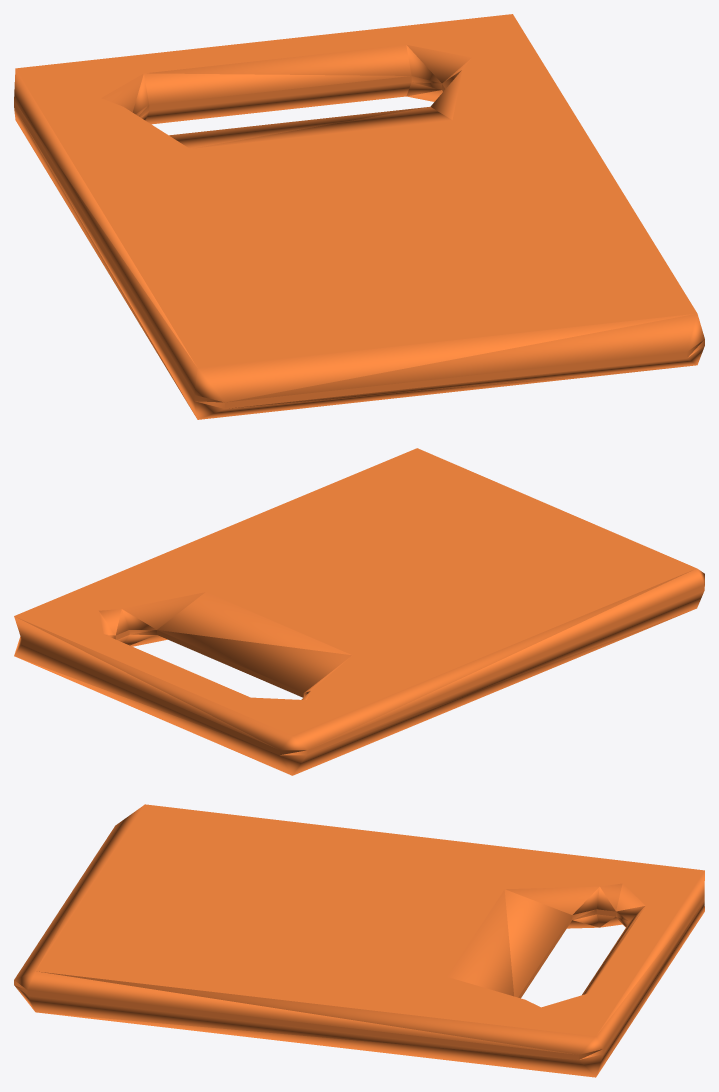
Rendered from talenan.obj.
The picture shows the model from 3 angles, top to bottom: view 1: azimuth 30°, elevation 25°; view 2: azimuth 150°, elevation 25°; view 3: azimuth 270°, elevation 25°; orthographic projection. The views are drawn at different scales.
Parts seen in each view (by area): view 1: Cutting_board_Cube.075; view 2: Cutting_board_Cube.075; view 3: Cutting_board_Cube.075.
Part boxes in pixels (<box>): Cutting_board_Cube.075: <box>14,14,704,419</box>; Cutting_board_Cube.075: <box>14,448,704,775</box>; Cutting_board_Cube.075: <box>14,804,704,1077</box>.
Size of the model in its own units: 0.8404 by 0.0685 by 1.04.
